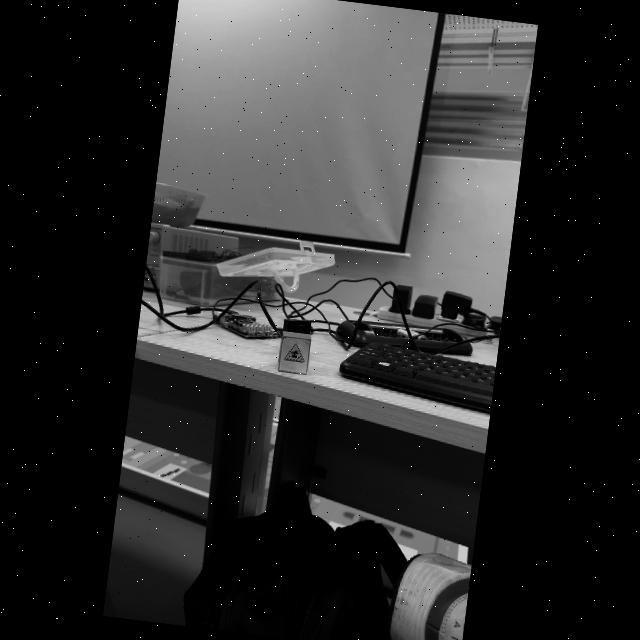Tsunami: (285, 345, 304, 362)
